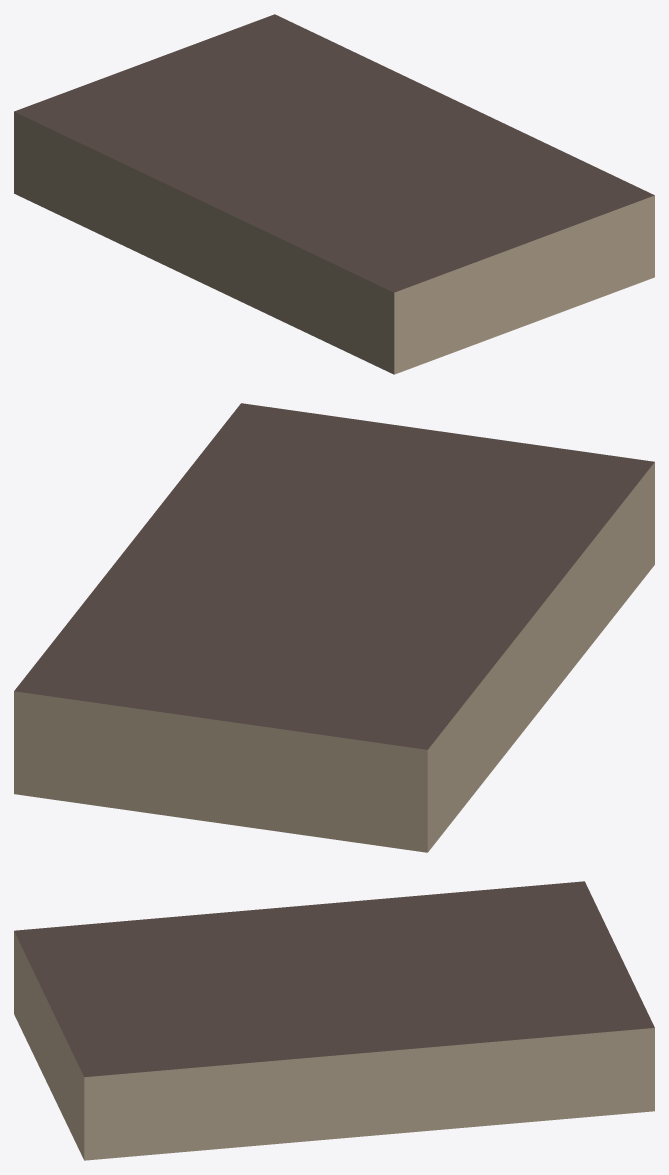
The picture shows the model from 3 angles, top to bottom: view 1: azimuth 30°, elevation 25°; view 2: azimuth 150°, elevation 25°; view 3: azimuth 270°, elevation 25°; orthographic projection. The views are drawn at different scales.
Visible parts, largest first — view 1: HP-w505649215; view 2: HP-w505649215; view 3: HP-w505649215.
Boxes of the visible parts, x1,y1,x2,y2 form: HP-w505649215: [14, 14, 654, 374]; HP-w505649215: [14, 403, 654, 852]; HP-w505649215: [14, 881, 654, 1160].
Size of the model in its own units: 45.34 by 9 by 62.68.
